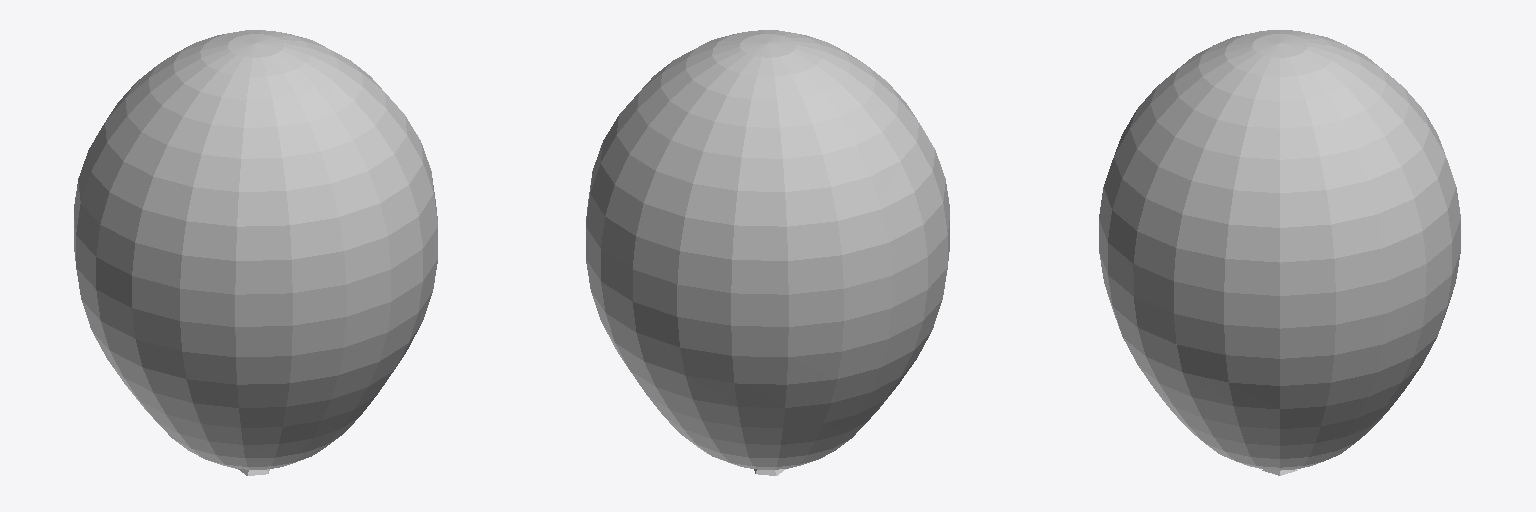
The model's file is baloon.obj.
3 views of the same model, side by side, from view 1: azimuth 30°, elevation 25°; view 2: azimuth 150°, elevation 25°; view 3: azimuth 270°, elevation 25° (orthographic).
Visible parts, largest first — view 1: polySurface6; view 2: polySurface6; view 3: polySurface6.
Boxes of the visible parts, box(x1,y1,x2,y2) form: polySurface6: box(74, 30, 437, 475); polySurface6: box(586, 30, 949, 475); polySurface6: box(1099, 30, 1460, 475).
Size of the model in its own units: 1.48 by 1.89 by 1.46.